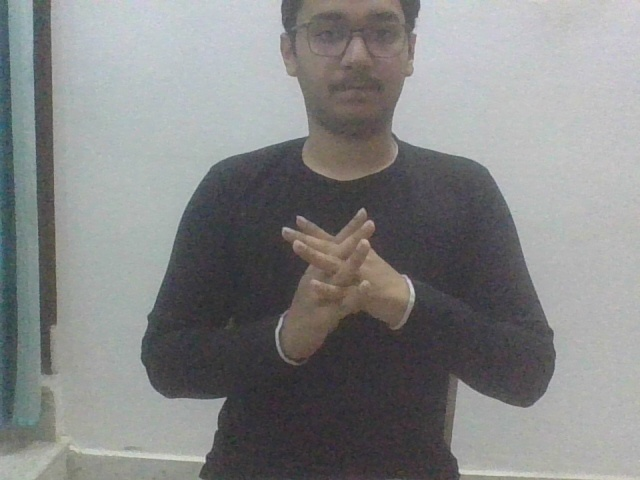W: (275, 206, 415, 361)
